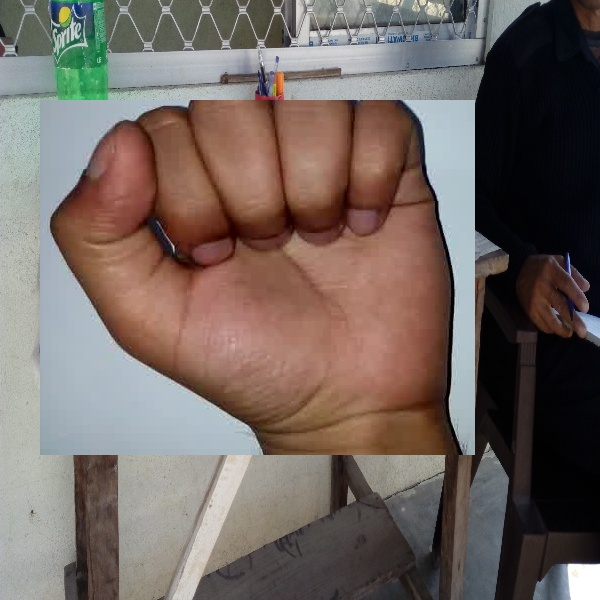A: (40, 100, 475, 455)
